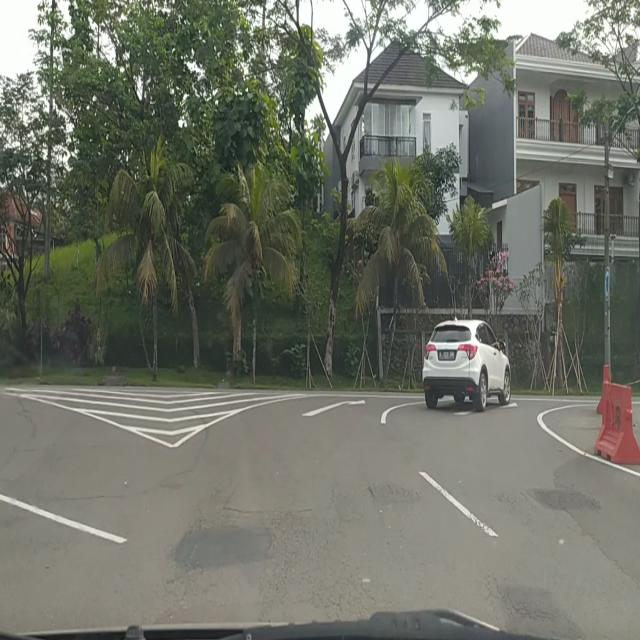Drain Hole: (236, 503, 366, 620), (359, 477, 425, 511)
